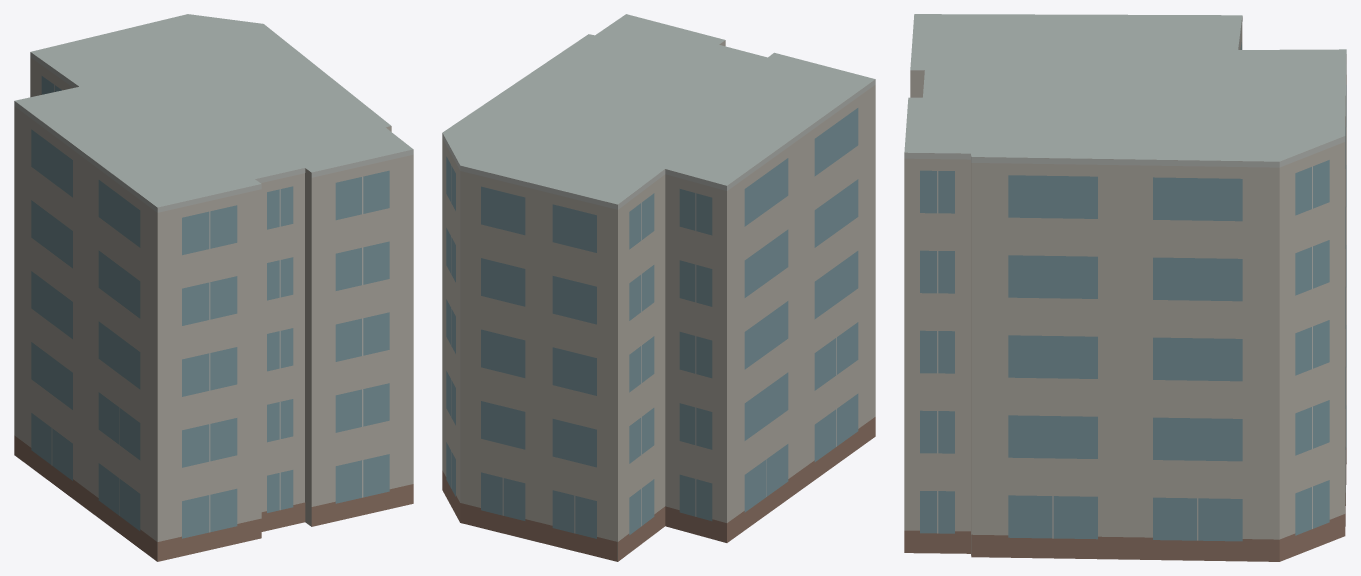
The model's file is survey-upis-32840614.glb.
3 views of the same model, side by side, from view 1: azimuth 30°, elevation 25°; view 2: azimuth 150°, elevation 25°; view 3: azimuth 270°, elevation 25° (orthographic). The views are drawn at different scales.
Visible parts, largest first — view 1: survey-upis-32840614.tmp; view 2: survey-upis-32840614.tmp; view 3: survey-upis-32840614.tmp.
Boxes of the visible parts, x1,y1,x2,y2 form: survey-upis-32840614.tmp: (14,14,413,561); survey-upis-32840614.tmp: (442,14,875,561); survey-upis-32840614.tmp: (904,14,1346,561).
Size of the model in its own units: 13 by 16.41 by 16.44.
